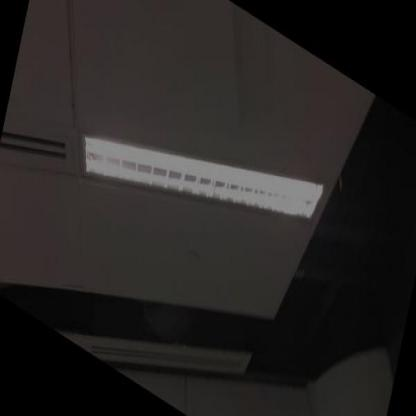light_on: (76, 35, 336, 322)
